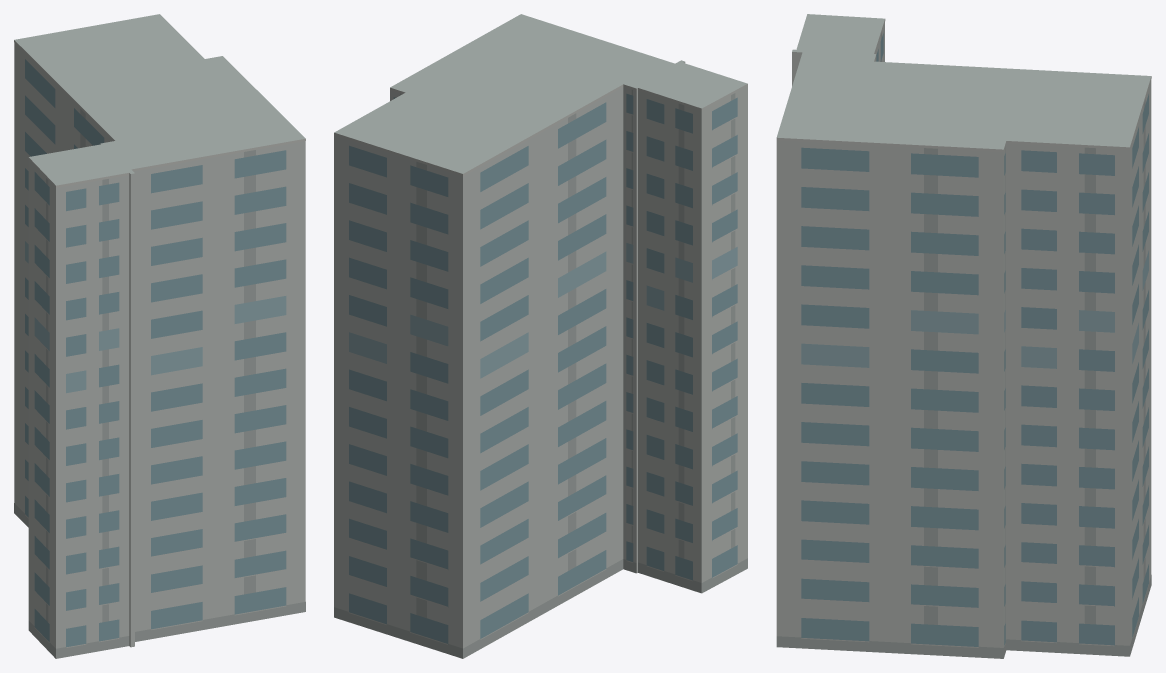
The model's file is survey-upis-32631406.glb.
3 renders of one model, left to right at view 1: azimuth 30°, elevation 25°; view 2: azimuth 150°, elevation 25°; view 3: azimuth 270°, elevation 25°, orthographic. The views are drawn at different scales.
Parts seen in each view (by area): view 1: survey-upis-32631406.tmp; view 2: survey-upis-32631406.tmp; view 3: survey-upis-32631406.tmp.
Part boxes in pixels (left/top/right/bottom): survey-upis-32631406.tmp: left=14, top=14, right=305, bottom=658; survey-upis-32631406.tmp: left=334, top=14, right=747, bottom=658; survey-upis-32631406.tmp: left=776, top=14, right=1151, bottom=658.
Bounding box in the file's own units: 27.06 × 47.4 × 31.63.
